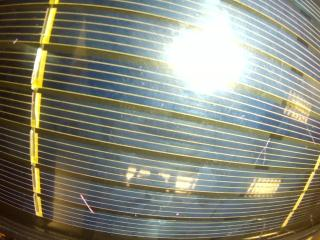crack: (255, 138, 270, 164), (80, 194, 94, 214), (306, 126, 314, 142), (12, 38, 18, 44)
scratch: (226, 217, 259, 235), (256, 218, 266, 240)
